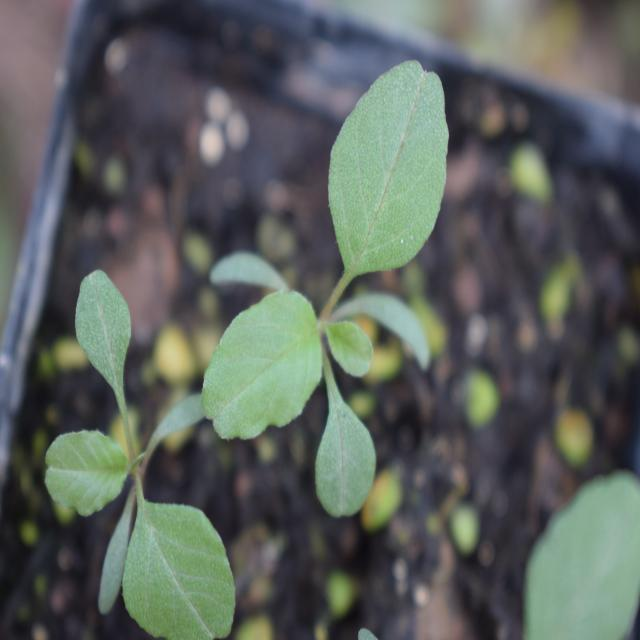pigweed: (208, 62, 452, 517), (45, 260, 240, 629)
